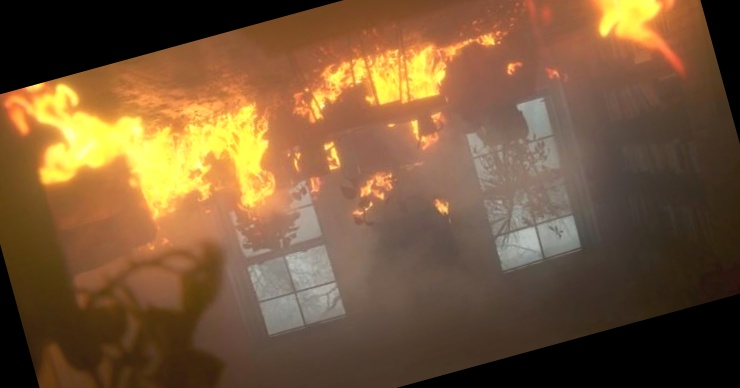fire: (0, 0, 704, 256)
